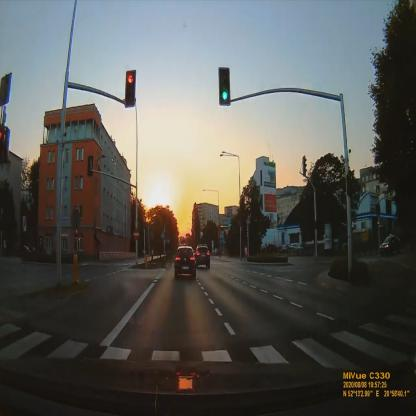cars: (174, 247, 197, 278), (195, 245, 210, 270)
